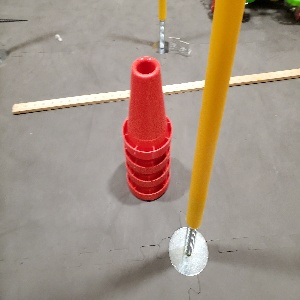Red_4: (117, 52, 175, 204)
